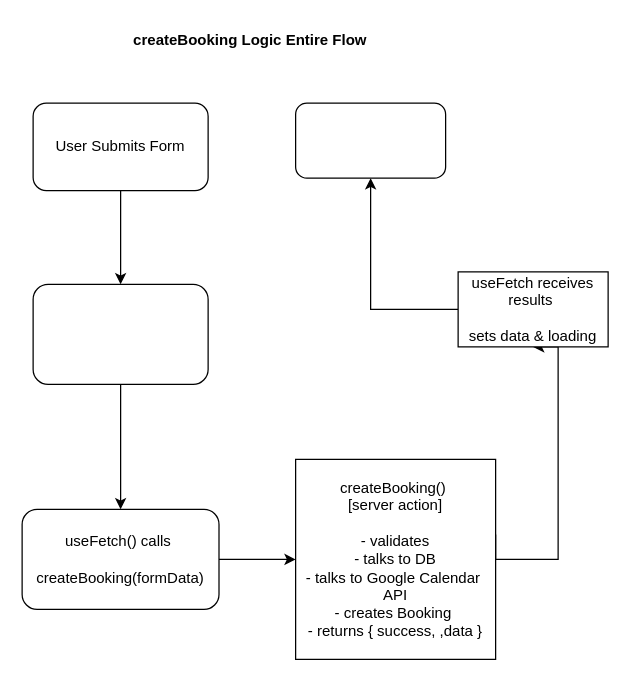
Image size: 630x681. Some labels were removed from this diagram. Here are the shapes that lost their labels. From the top down, the centre of each, then its label:
At [370,140]: "Frontend shows success / error".
At [120,333]: "Frontend calls - > fnCreateBooking (formData)".
